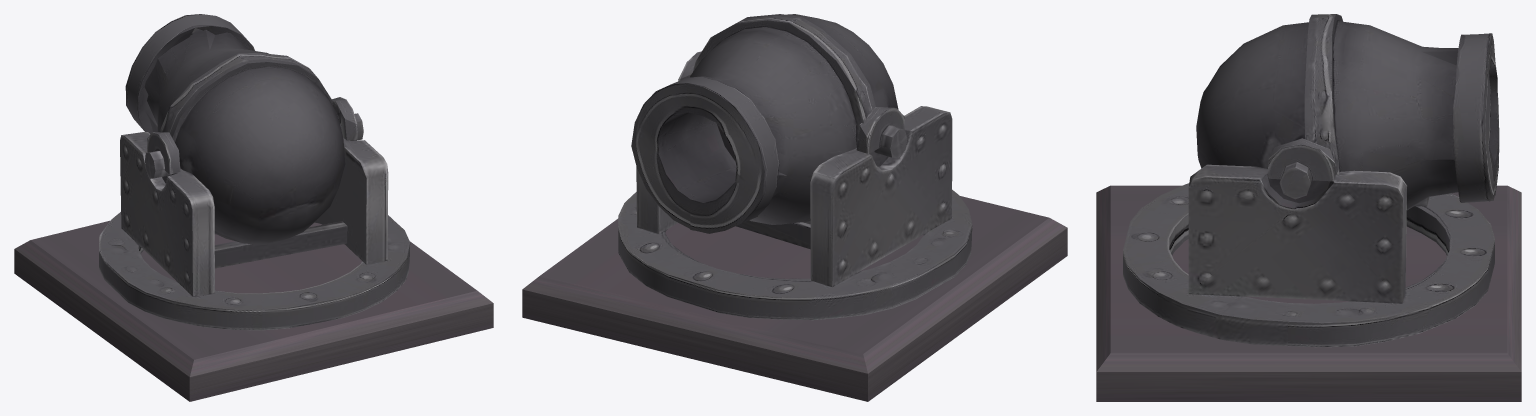
The model's file is cannon.4.glb.
3 renders of one model, left to right at view 1: azimuth 30°, elevation 25°; view 2: azimuth 150°, elevation 25°; view 3: azimuth 270°, elevation 25°, orthographic. The views are drawn at different scales.
Parts seen in each view (by area): view 1: plate, mount, barrel; view 2: plate, barrel, mount; view 3: mount, plate, barrel.
Boxes of the visible parts, x1,y1,x2,y2 form: plate: [14, 220, 493, 401]; mount: [99, 97, 410, 330]; barrel: [125, 14, 345, 244]; plate: [522, 196, 1067, 401]; barrel: [631, 14, 898, 233]; mount: [618, 51, 972, 320]; mount: [1123, 138, 1494, 347]; plate: [1096, 185, 1521, 401]; barrel: [1196, 14, 1499, 210].
Size of the model in its own units: 0.9 by 0.6817 by 0.9.
Materials: 2 (2 with a texture image).
